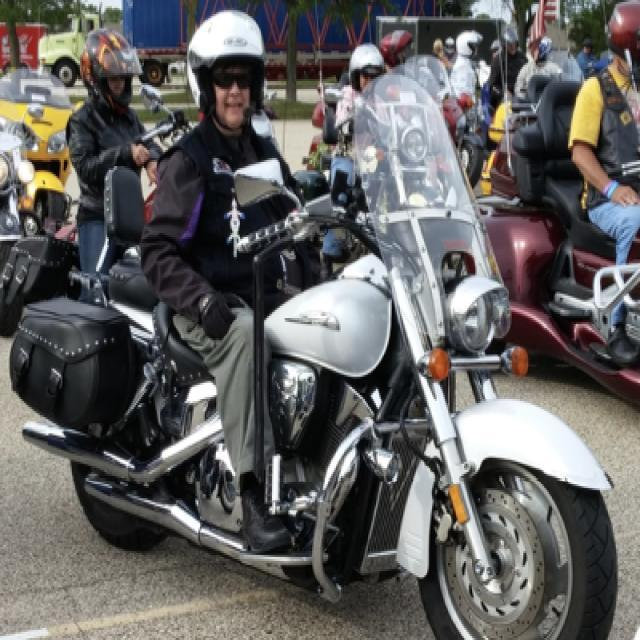Helmet: (182, 6, 276, 136), (77, 22, 144, 120)
